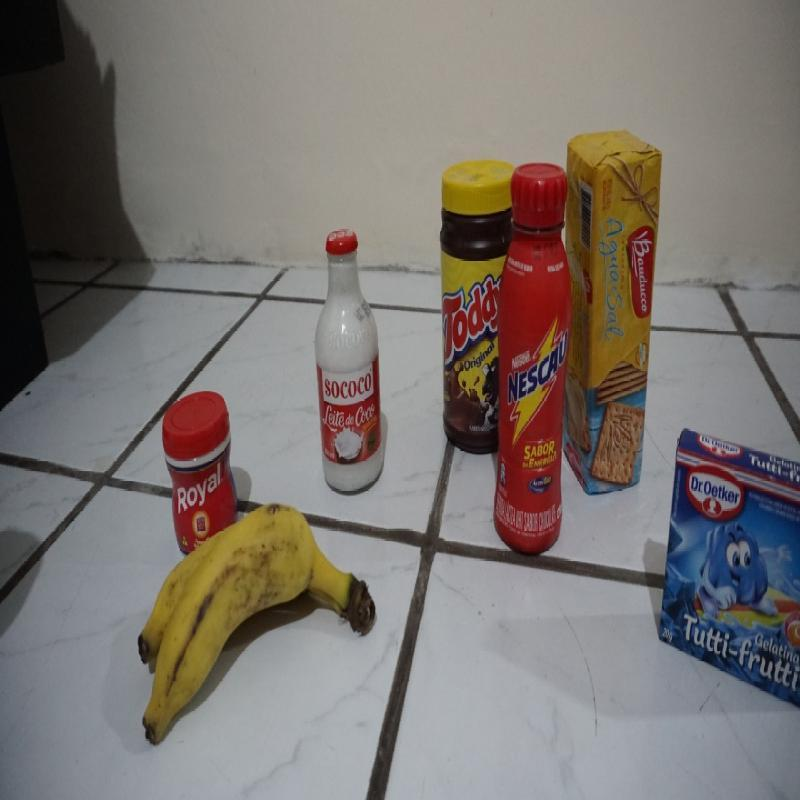Banana: (92, 509, 373, 735)
Chocolate Milk: (501, 168, 566, 540)
Chocolate Powder: (434, 155, 501, 442)
Coconut Milk: (319, 218, 390, 494)
Cracker: (568, 131, 659, 508)
Gelatine: (657, 431, 800, 727)
Yeast: (165, 399, 236, 530)
